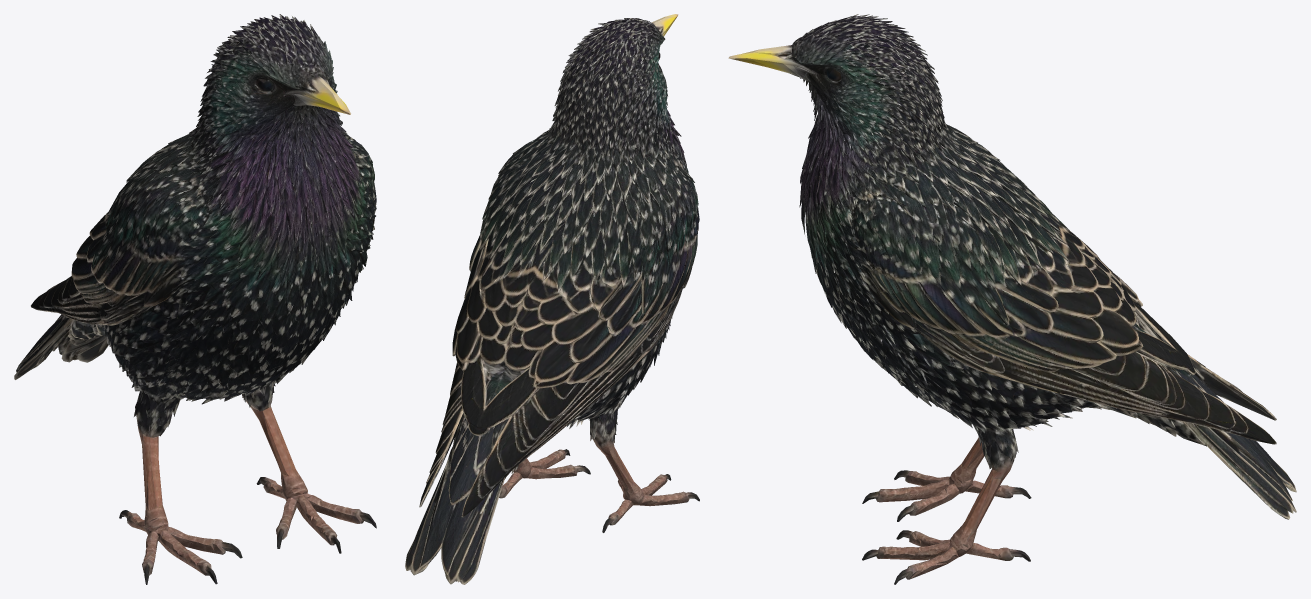
File: starling.glb
The picture shows the model from 3 angles, left to right: view 1: azimuth 30°, elevation 25°; view 2: azimuth 150°, elevation 25°; view 3: azimuth 270°, elevation 25°; orthographic projection. The views are drawn at different scales.
Parts seen in each view (by area): view 1: Mesh_0; view 2: Mesh_0; view 3: Mesh_0.
Boxes of the visible parts, bbox=[...] form: Mesh_0: bbox=[14, 14, 376, 584]; Mesh_0: bbox=[405, 14, 699, 584]; Mesh_0: bbox=[728, 14, 1296, 584].
Size of the model in its own units: 0.8497 by 1.89 by 1.9.
1 material, 1 textured.
